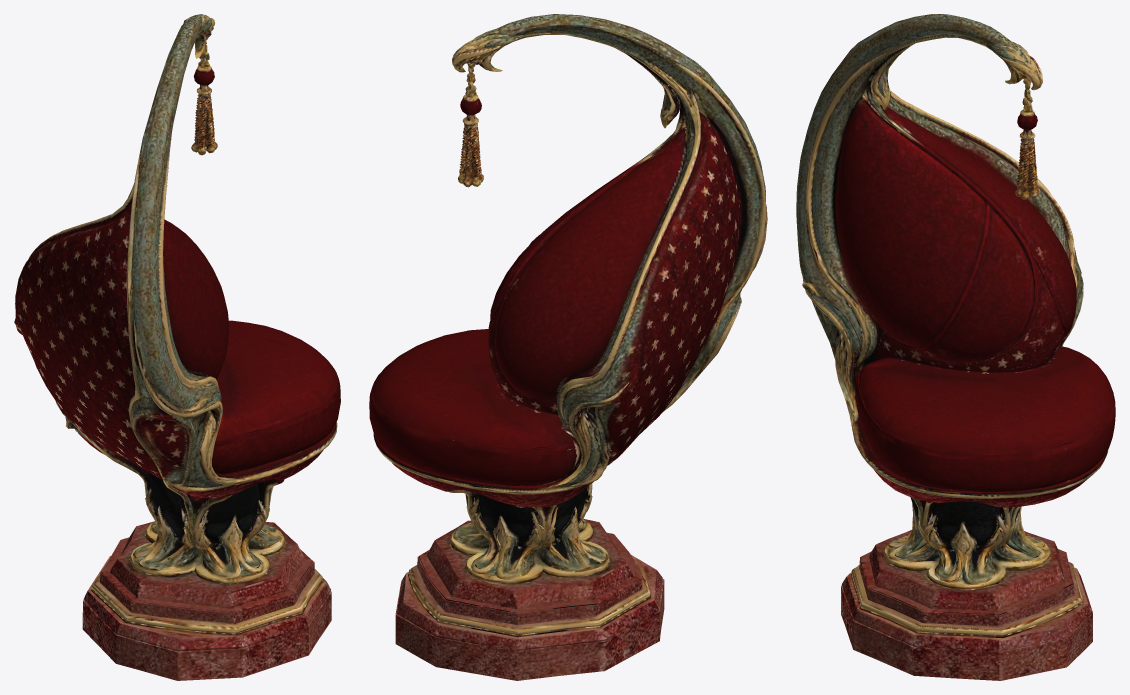
Rendered from NX-02_armchair_game.glb.
3 views of the same model, side by side, from view 1: azimuth 30°, elevation 25°; view 2: azimuth 150°, elevation 25°; view 3: azimuth 270°, elevation 25° (orthographic). The views are drawn at different scales.
Parts seen in each view (by area): view 1: NX-02_armchair; view 2: NX-02_armchair; view 3: NX-02_armchair.
Boxes of the visible parts, bbox=[...] form: NX-02_armchair: bbox=[14, 14, 340, 680]; NX-02_armchair: bbox=[369, 14, 767, 680]; NX-02_armchair: bbox=[796, 14, 1115, 680].
Size of the model in its own units: 0.6615 by 1.35 by 0.653.
1 material, 1 textured.
